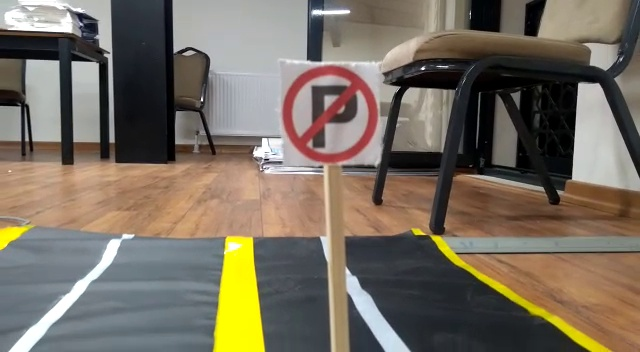park_yapilmaz: (280, 61, 380, 163)
